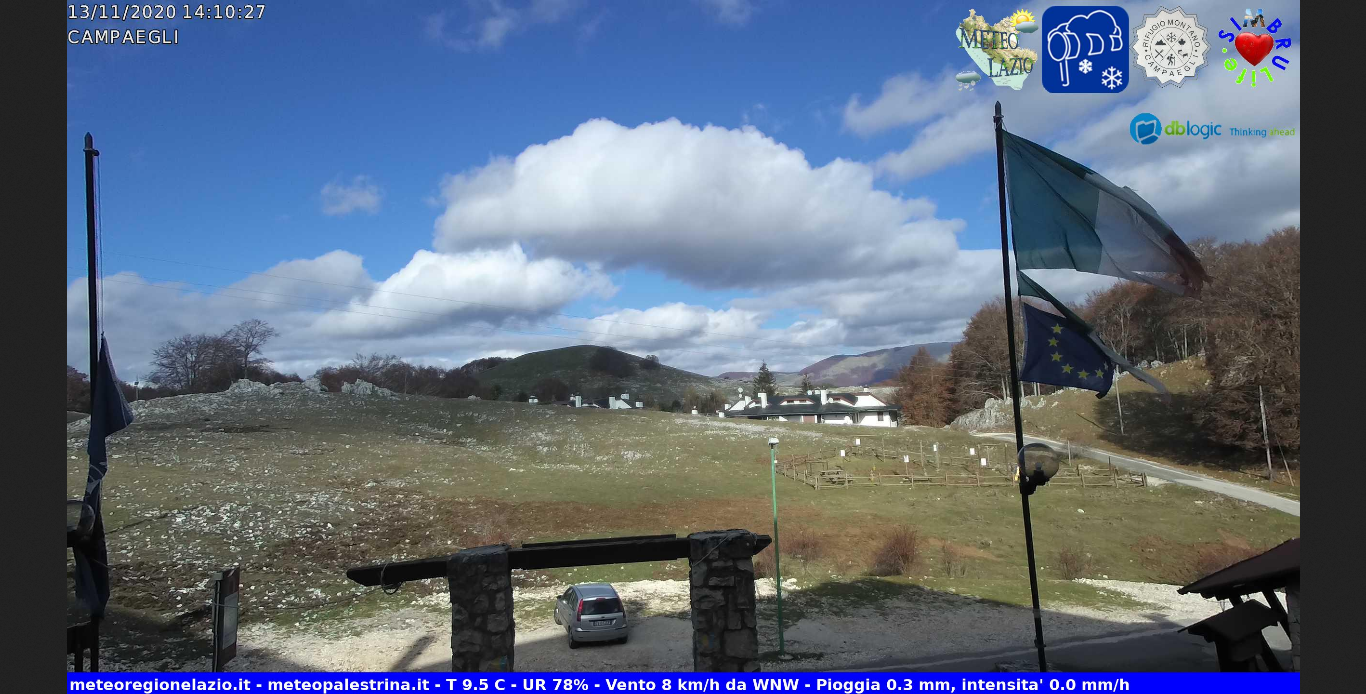maybe: (990, 115, 1228, 294), (1010, 299, 1133, 405)
